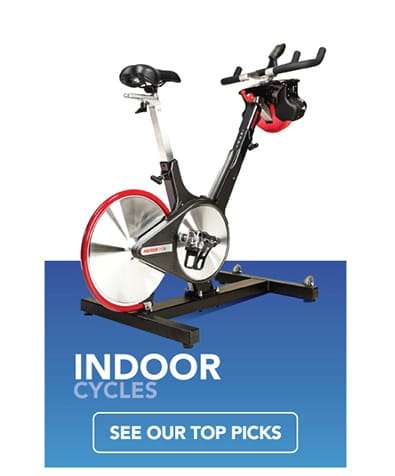gym_bike: (66, 38, 329, 348)
